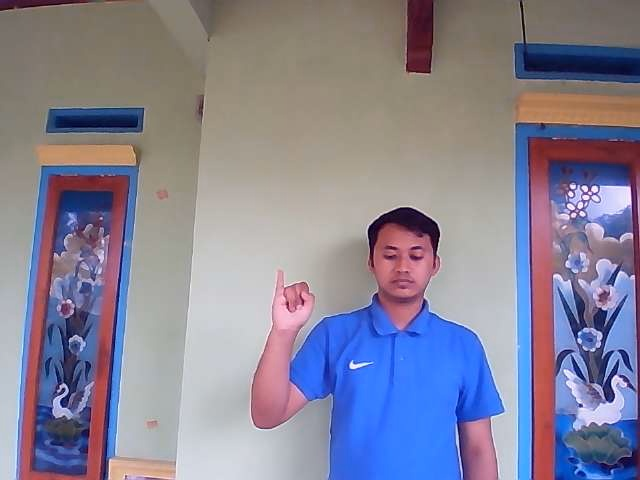I: (268, 268, 314, 321)
